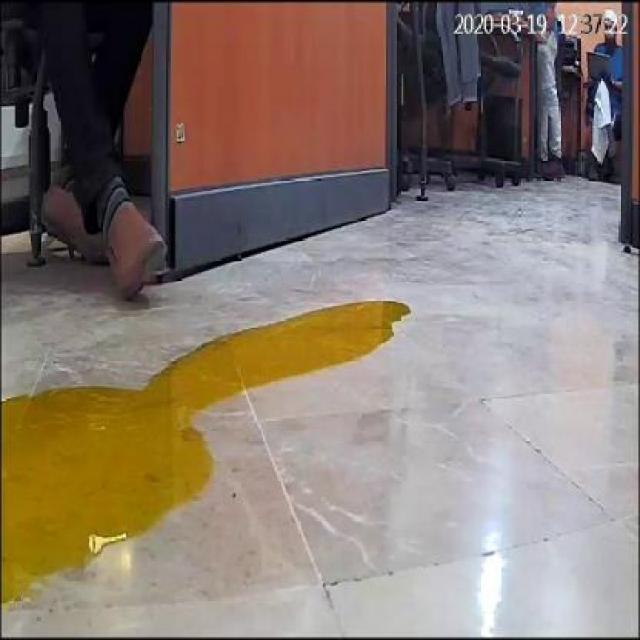spill: (0, 298, 412, 606)
